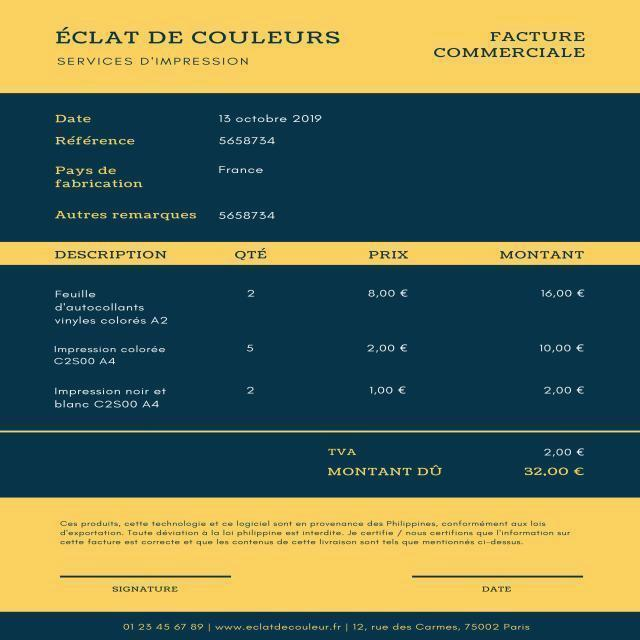paragraph: (49, 104, 332, 227), (55, 515, 576, 551), (49, 22, 346, 75), (319, 439, 592, 486), (115, 615, 535, 638), (428, 25, 593, 64), (107, 580, 183, 598), (476, 581, 518, 597)
table: (47, 243, 594, 421)
